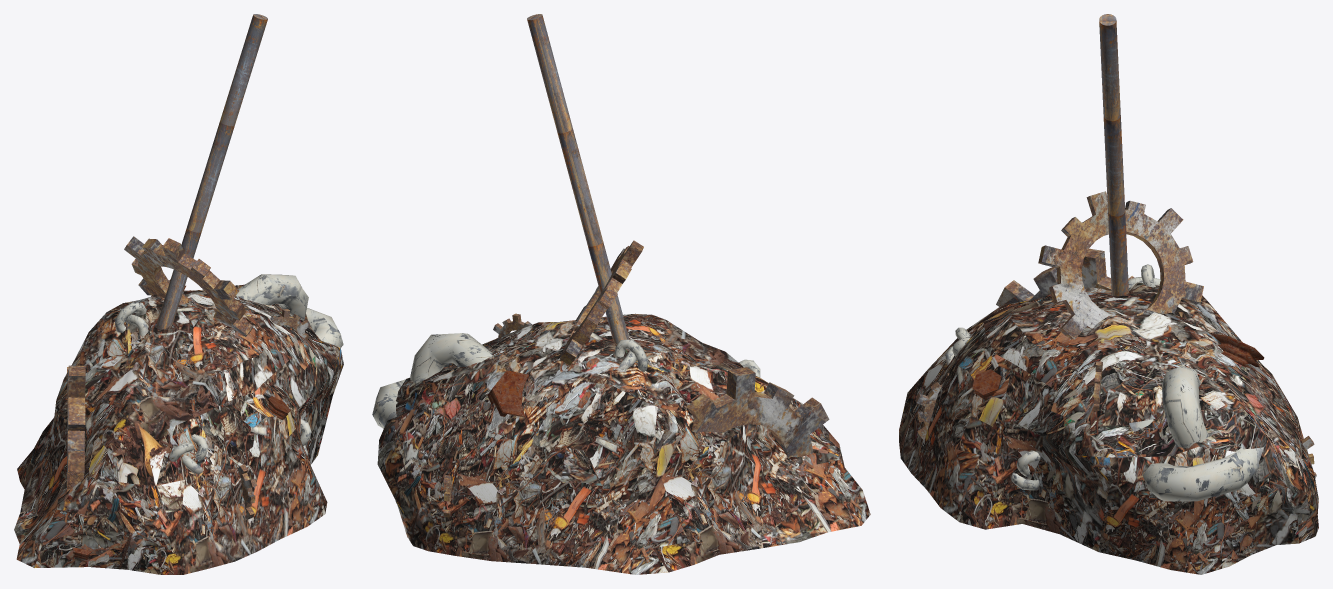
The model's file is Resource_1.FBX.
The picture shows the model from 3 angles, left to right: view 1: azimuth 30°, elevation 25°; view 2: azimuth 150°, elevation 25°; view 3: azimuth 270°, elevation 25°; orthographic projection. The views are drawn at different scales.
Visible parts, largest first — view 1: Base, pret, Tube004, Torus Knot004, Tube002, Torus Knot002, Torus Knot003, Tube005, Tube003; view 2: Base, Tube002, pret, Torus Knot004, Tube004, Hose002, Torus Knot003; view 3: Base, Tube004, Torus Knot004, pret, Tube002, Hose002, Tube005, Torus Knot005, Hose003.
Boxes of the visible parts, bbox=[...] form: Base: bbox=[14, 284, 343, 574]; pret: bbox=[156, 14, 267, 329]; Tube004: bbox=[124, 236, 253, 336]; Torus Knot004: bbox=[236, 274, 343, 347]; Tube002: bbox=[66, 365, 85, 491]; Torus Knot002: bbox=[169, 434, 208, 473]; Torus Knot003: bbox=[115, 302, 147, 336]; Tube005: bbox=[233, 454, 256, 519]; Tube003: bbox=[270, 309, 310, 340]; Base: bbox=[377, 313, 870, 574]; Tube002: bbox=[655, 367, 829, 458]; pret: bbox=[527, 14, 629, 343]; Torus Knot004: bbox=[372, 333, 492, 428]; Tube004: bbox=[560, 240, 643, 365]; Hose002: bbox=[487, 370, 528, 416]; Torus Knot003: bbox=[614, 339, 647, 371]; Base: bbox=[899, 282, 1318, 574]; Tube004: bbox=[1038, 191, 1203, 339]; Torus Knot004: bbox=[1129, 366, 1263, 501]; pret: bbox=[1099, 14, 1128, 296]; Tube002: bbox=[996, 248, 1134, 306]; Hose002: bbox=[1213, 334, 1264, 368]; Tube005: bbox=[915, 373, 949, 439]; Torus Knot005: bbox=[1011, 451, 1039, 490]; Hose003: bbox=[972, 369, 1001, 400].
Bounding box in the file's own units: 92.07 × 101 × 75.95.
